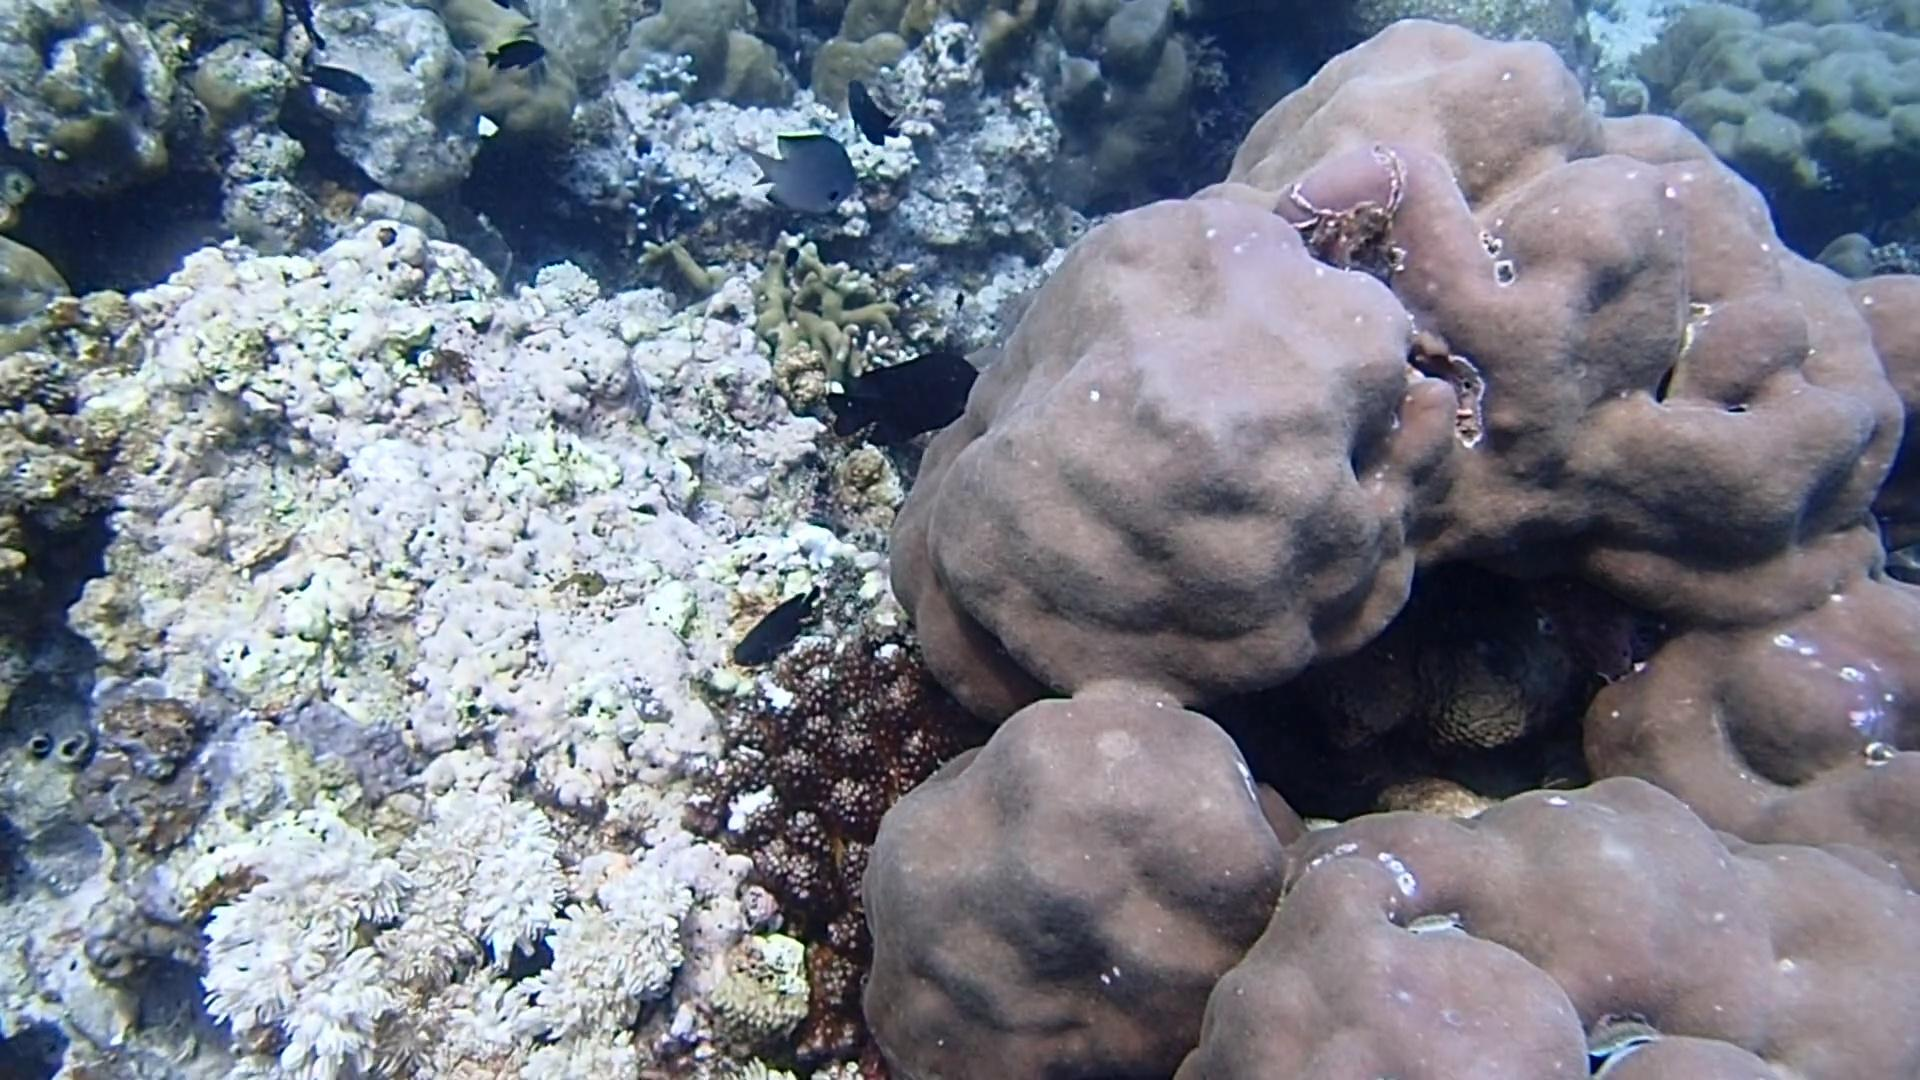Dark Fish: (822, 335, 980, 454), (719, 578, 829, 684), (836, 71, 903, 153), (299, 55, 376, 105), (473, 30, 559, 73)
Light Fish - Dark Fin: (745, 124, 866, 224)
